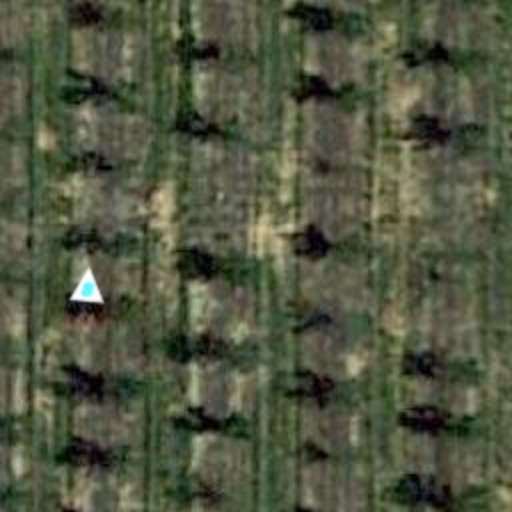triangle: (68, 264, 108, 304)
